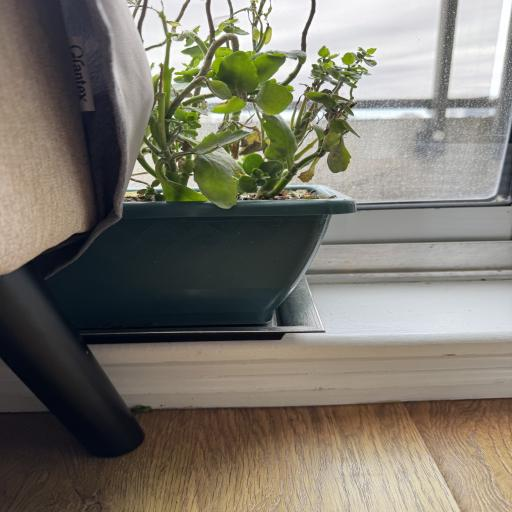Plant Pot: (92, 174, 359, 326)
